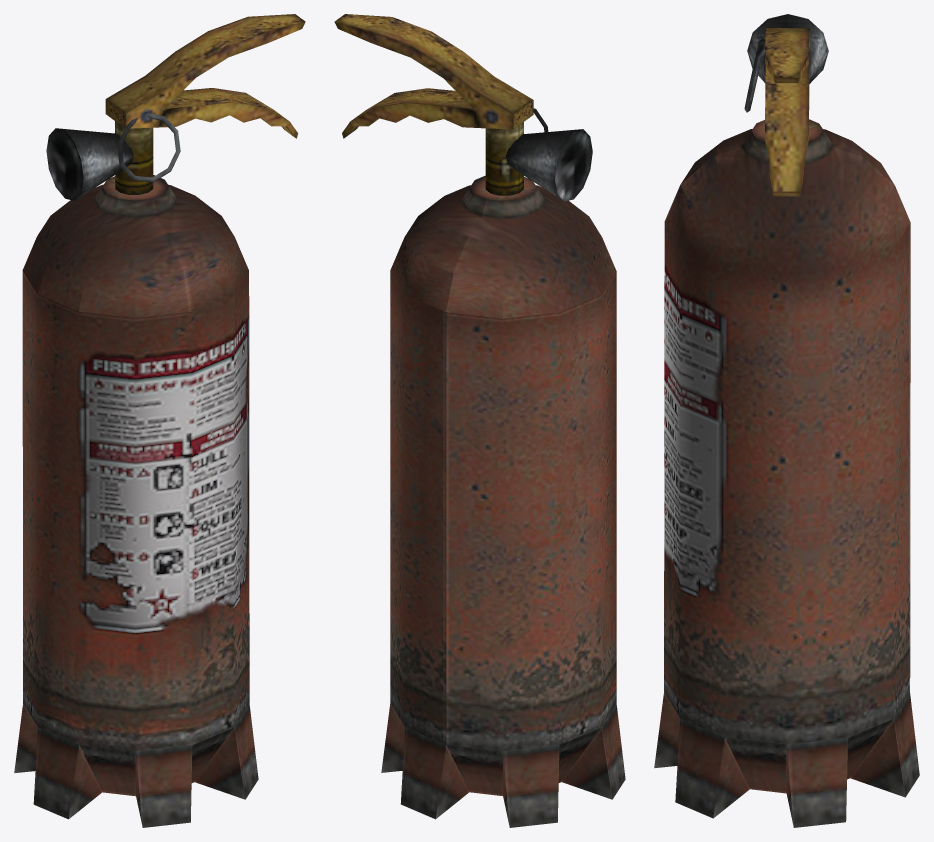
File: fire_extinguisher.fbx
The picture shows the model from 3 angles, left to right: view 1: azimuth 30°, elevation 25°; view 2: azimuth 150°, elevation 25°; view 3: azimuth 270°, elevation 25°; orthographic projection. The views are drawn at different scales.
Parts seen in each view (by area): view 1: Cylinder03; view 2: Cylinder03; view 3: Cylinder03.
Part boxes in pixels (left/top/right/bottom): Cylinder03: left=14, top=14, right=305, bottom=827; Cylinder03: left=334, top=14, right=625, bottom=827; Cylinder03: left=654, top=14, right=919, bottom=827.
Bounding box in the file's own units: 35.55 × 90.97 × 27.88.
